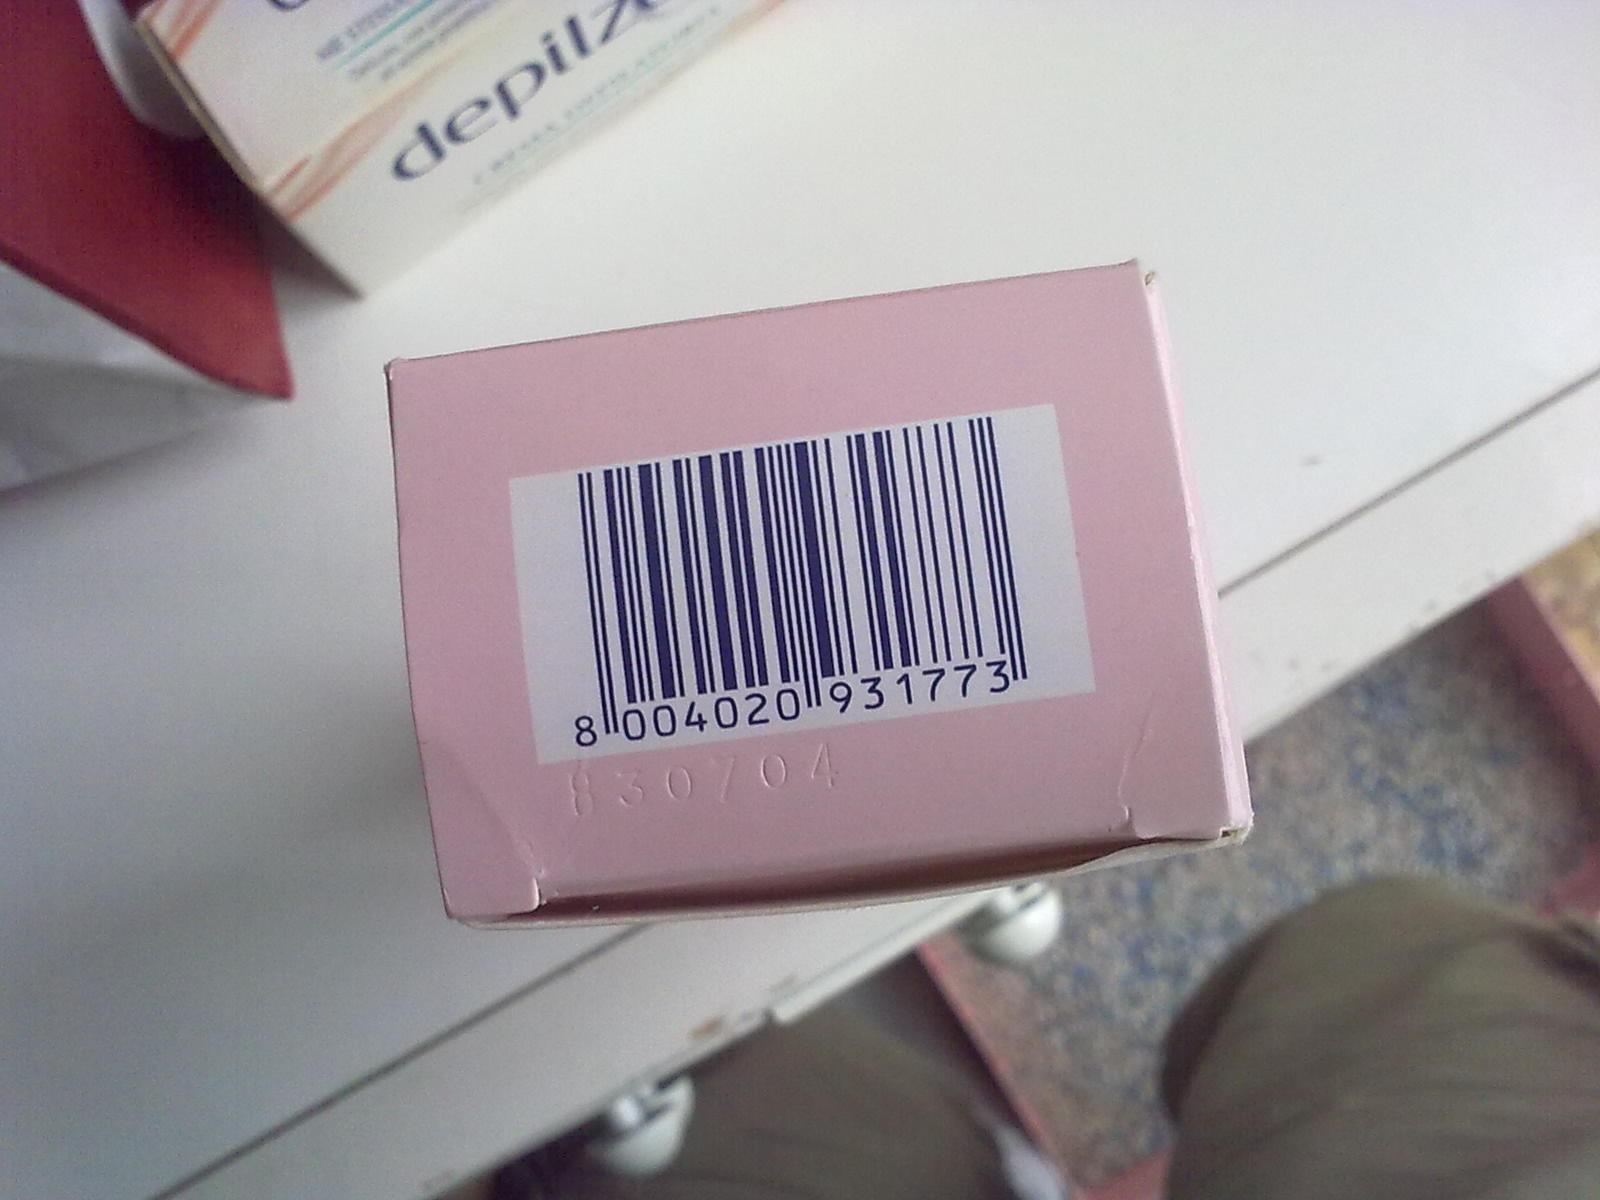Barcode: (505, 400, 1101, 766)
